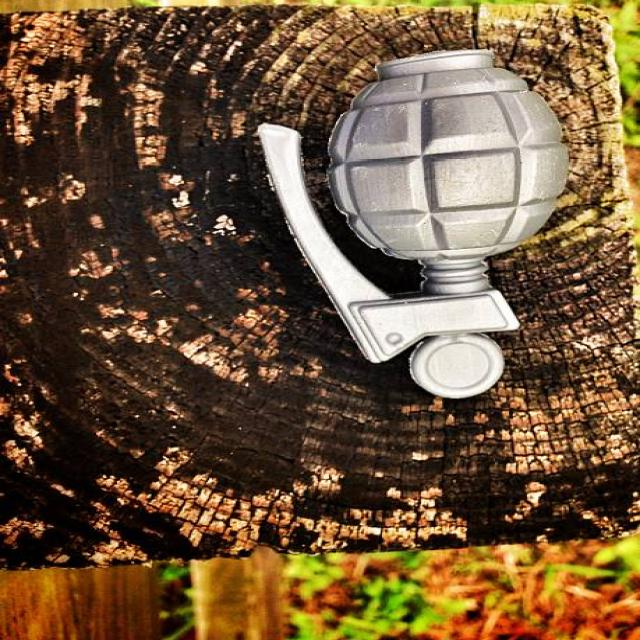grenade: (252, 40, 580, 402)
